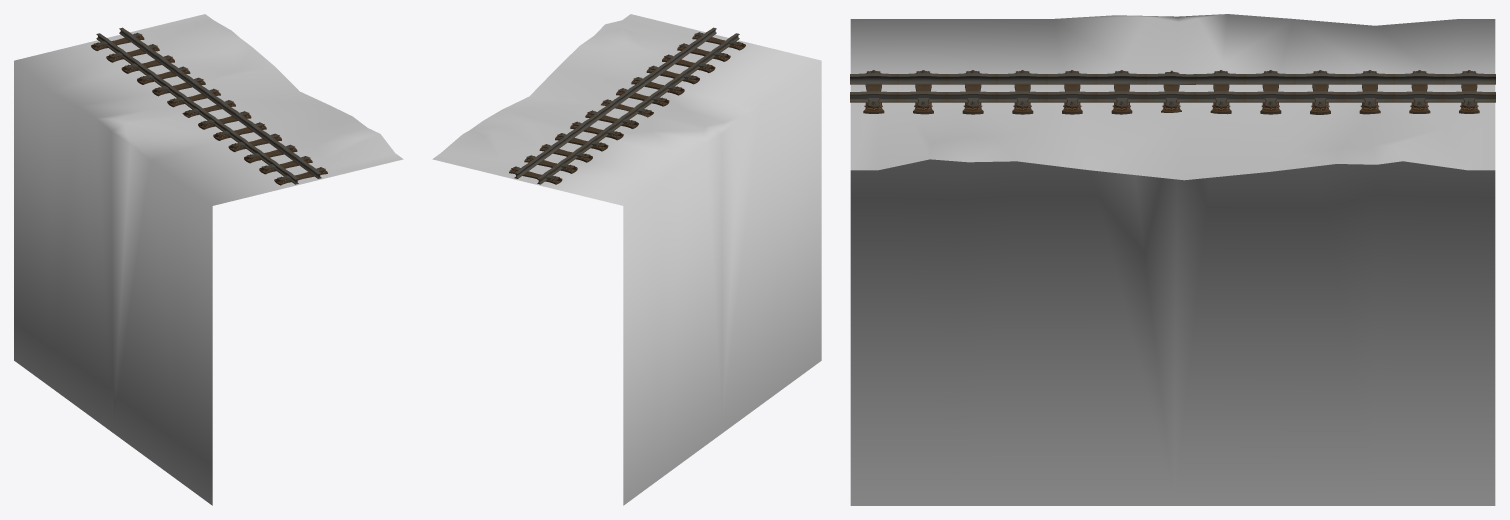
Rendered from f_floor_01.fbx.
3 views of the same model, side by side, from view 1: azimuth 30°, elevation 25°; view 2: azimuth 150°, elevation 25°; view 3: azimuth 270°, elevation 25° (orthographic). The views are drawn at different scales.
Parts seen in each view (by area): view 1: f_floor_01__1_.001; view 2: f_floor_01__1_.001; view 3: f_floor_01__1_.001.
Boxes of the visible parts, box(x1,y1,x2,y2) form: f_floor_01__1_.001: box(14, 14, 403, 505); f_floor_01__1_.001: box(432, 14, 821, 505); f_floor_01__1_.001: box(850, 14, 1495, 505).
Size of the model in its own units: 10.1 by 15.39 by 18.03.
